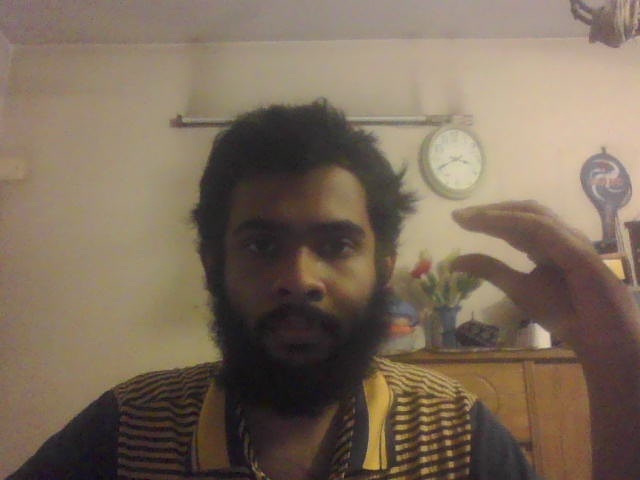No: (442, 200, 640, 347)
